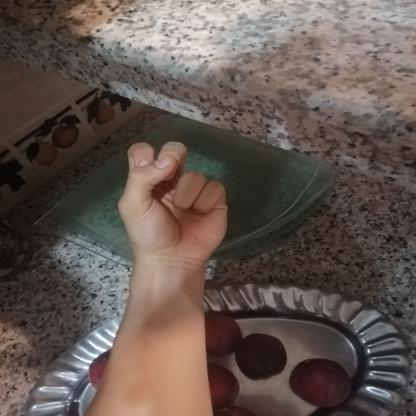QAAF: (107, 133, 246, 271)
